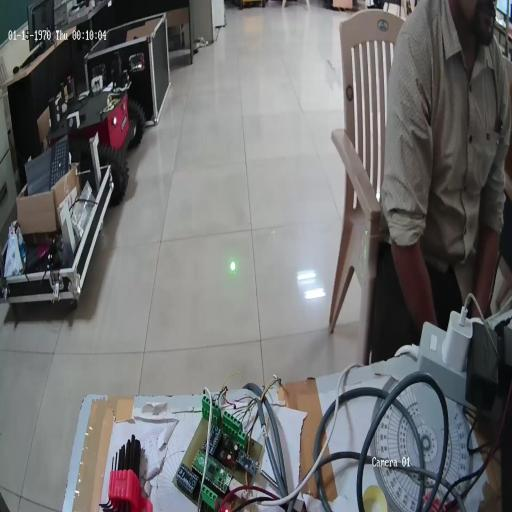laser: (229, 258, 236, 274)
